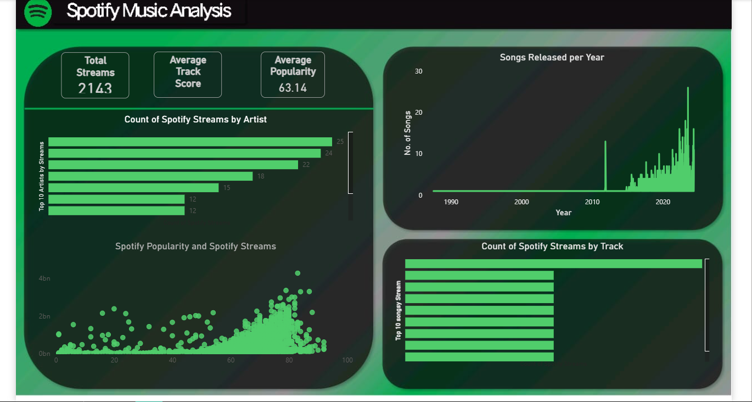

What the dashboard file says about the page in this screenshot:
{"tool":"powerbi","page":{"name":"Page 1","canvas":[1280,720],"ordinal":0},"visuals":[{"type":"card","title":"Average Track Score","fields":{"Values":["Avg(spotify_cleaned.Track Score)"]},"box":[246.6,93.3,121.5,82.2],"z":0},{"type":"card","title":"Total Streams","fields":{"Values":["CountNonNull(spotify_cleaned.Spotify Streams)"]},"box":[81,94.5,121.5,82.2],"z":1000},{"type":"card","title":"Average Popularity","fields":{"Values":["Avg(spotify_cleaned.Spotify Popularity)"]},"box":[438,93.3,114.1,82.2],"z":2000},{"type":"clusteredBarChart","fields":{"Category":["spotify_cleaned.Artist"],"Y":["CountNonNull(spotify_cleaned.Spotify Streams)"]},"box":[35.8,203.6,572,206.5],"z":3000},{"type":"clusteredBarChart","fields":{"Category":["spotify_cleaned.Track"],"Y":["Count(spotify_cleaned.Spotify Streams)"]},"box":[673.6,430.7,571.8,231.9],"z":4000},{"type":"lineChart","title":"Songs Released per Year","fields":{"Category":["spotify_cleaned.Release Date"],"Y":["CountNonNull(spotify_cleaned.Album Name)"]},"box":[687.1,93.3,543.6,300.6],"z":5000},{"type":"scatterChart","fields":{"X":["spotify_cleaned.Spotify Popularity"],"Y":["spotify_cleaned.Spotify Streams"]},"box":[36,431,572,232],"z":5001}]}

Visuals, with their boxes on the page's 1280x720 design canvas (x1, y1, x2, y2). These are canvas units, not pixel positions in the 752x402 screenshot, which may show the page scaled, cropped or inside an application window:
"Average Track Score" card: [x1=247, y1=93, x2=368, y2=176]
"Total Streams" card: [x1=81, y1=94, x2=202, y2=177]
"Average Popularity" card: [x1=438, y1=93, x2=552, y2=176]
clusteredBarChart - spotify_cleaned.Artist x CountNonNull(spotify_cleaned.Spotify Streams): [x1=36, y1=204, x2=608, y2=410]
clusteredBarChart - spotify_cleaned.Track x Count(spotify_cleaned.Spotify Streams): [x1=674, y1=431, x2=1245, y2=663]
"Songs Released per Year" lineChart: [x1=687, y1=93, x2=1231, y2=394]
scatterChart - spotify_cleaned.Spotify Popularity x spotify_cleaned.Spotify Streams: [x1=36, y1=431, x2=608, y2=663]
